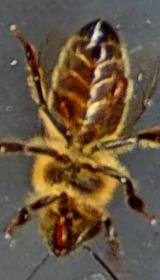varroa_mite: (48, 88, 78, 124)
